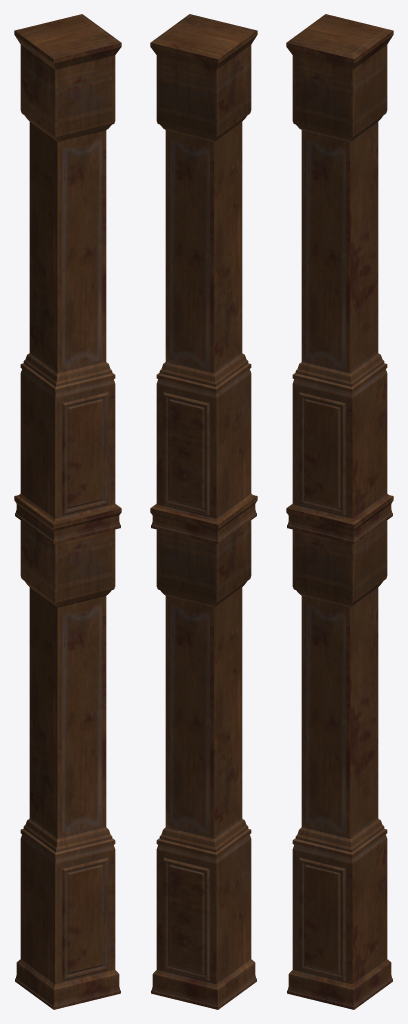
Rendered from Pillar02.fbx.
3 views of the same model, side by side, from view 1: azimuth 30°, elevation 25°; view 2: azimuth 150°, elevation 25°; view 3: azimuth 330°, elevation 25° (orthographic).
Visible parts, largest first — view 1: Pillar02; view 2: Pillar02; view 3: Pillar02.
Boxes of the visible parts, x1,y1,x2,y2 form: Pillar02: [14, 14, 121, 1009]; Pillar02: [150, 14, 257, 1009]; Pillar02: [286, 14, 393, 1009].
Bounding box in the file's own units: 83.93 × 1126 × 83.93.
Materials: 1 (1 with a texture image).
